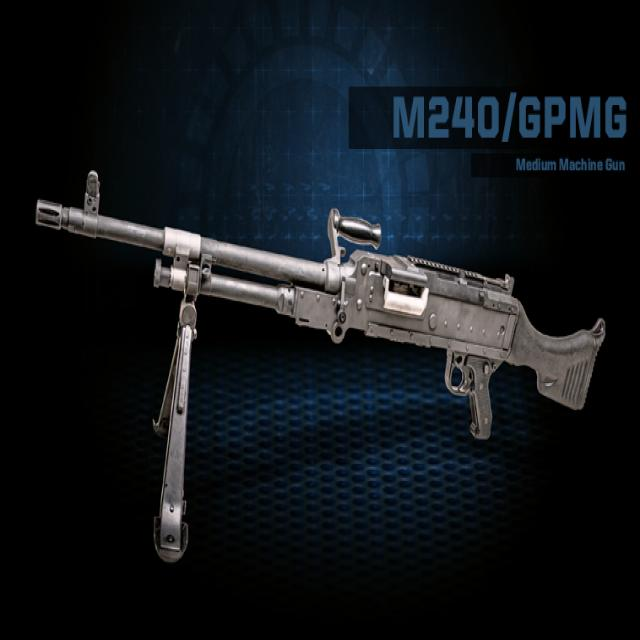Gun: (35, 148, 615, 563)
